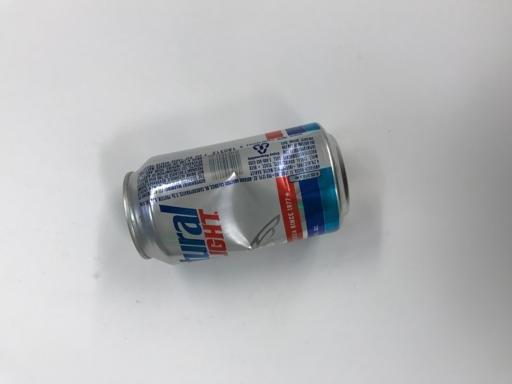kaleng: (124, 125, 350, 265)
